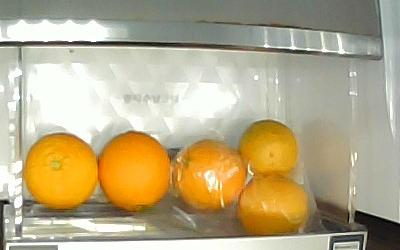orange: (99, 129, 169, 212), (25, 133, 99, 210), (237, 120, 299, 175)
orange_vinyl: (173, 139, 246, 212), (237, 175, 310, 235)
